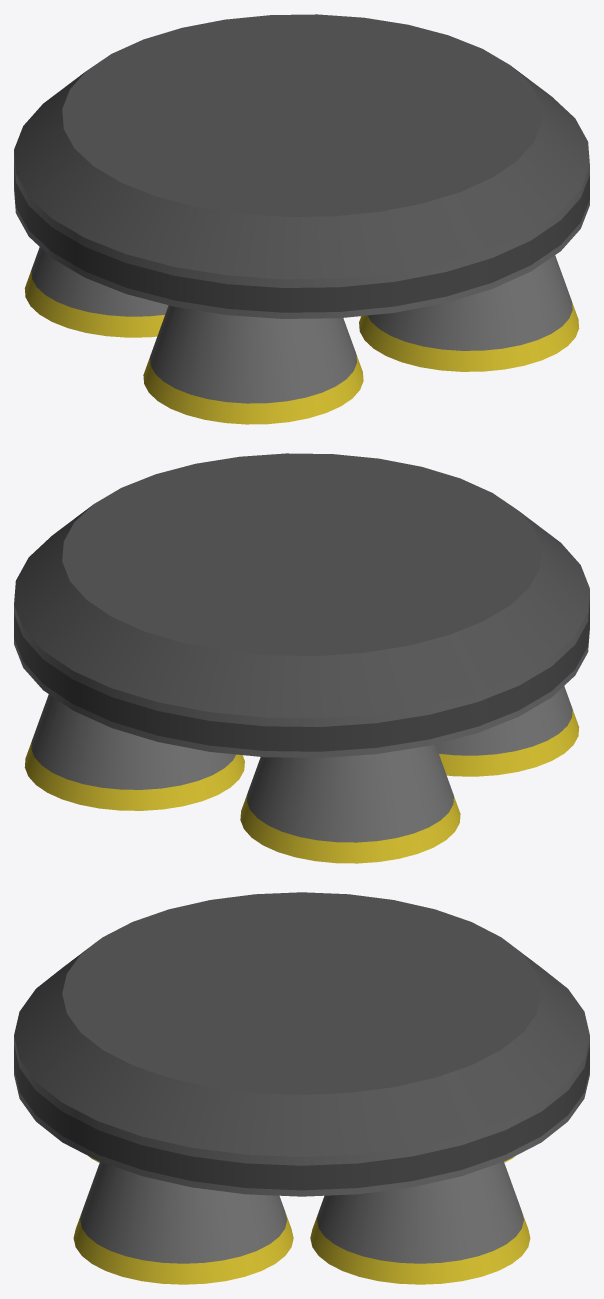
The model's file is rocketPropulsion.fbx.
3 views of the same model, one above another, from view 1: azimuth 30°, elevation 25°; view 2: azimuth 150°, elevation 25°; view 3: azimuth 270°, elevation 25° (orthographic).
Visible parts, largest first — view 1: Rocket Propulsion; view 2: Rocket Propulsion; view 3: Rocket Propulsion.
Part boxes in pixels (bbox=[...]): Rocket Propulsion: bbox=[14, 14, 589, 424]; Rocket Propulsion: bbox=[14, 453, 589, 863]; Rocket Propulsion: bbox=[14, 892, 589, 1284].
Size of the model in its own units: 285 by 105 by 285.
